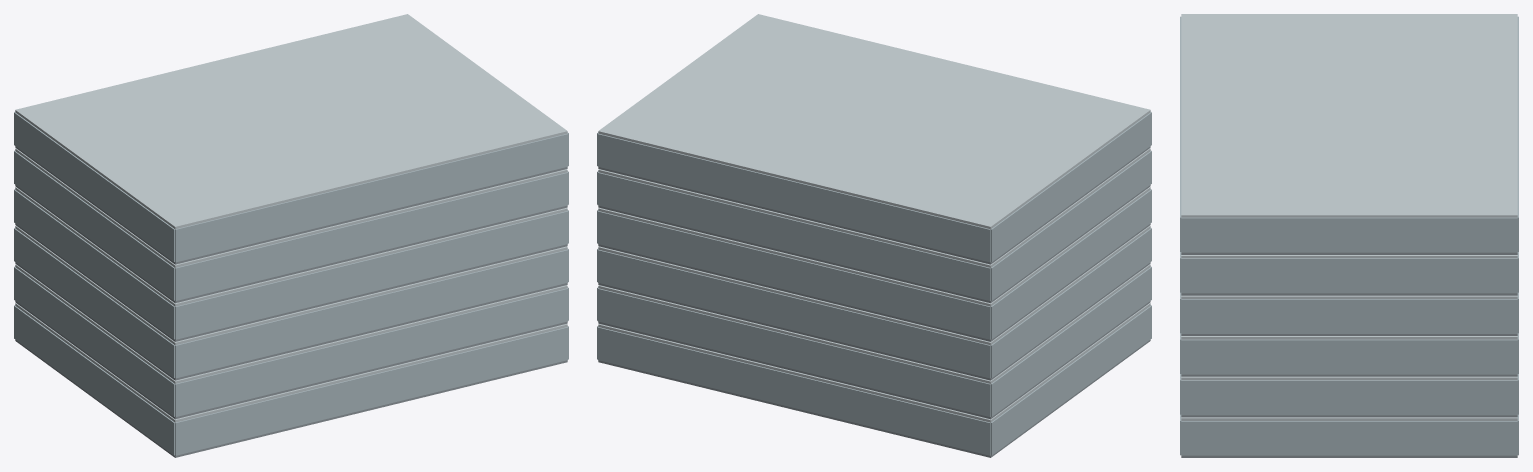
Rendered from hospital_shell.glb.
The picture shows the model from 3 angles, left to right: view 1: azimuth 30°, elevation 25°; view 2: azimuth 150°, elevation 25°; view 3: azimuth 270°, elevation 25°; orthographic projection. The views are drawn at different scales.
Parts seen in each view (by area): view 1: F06 | Entire floor | removable roof, Entire floor | single wall unit, F04 | Entire floor | single wall unit, F02 | Entire floor | single wall unit, F05 | Entire floor | single wall unit, F03 | Entire floor | single wall unit, F06 | Entire floor | single wall unit, Entire floor | removable roof, F03 | Entire floor | removable roof, F04 | Entire floor | removable roof, F02 | Entire floor | removable roof, F05 | Entire floor | removable roof (+6 smaller); view 2: F06 | Entire floor | removable roof, Entire floor | single wall unit, F04 | Entire floor | single wall unit, F02 | Entire floor | single wall unit, F05 | Entire floor | single wall unit, F03 | Entire floor | single wall unit, F06 | Entire floor | single wall unit, Entire floor | removable roof, F03 | Entire floor | removable roof, F04 | Entire floor | removable roof, F02 | Entire floor | removable roof, F05 | Entire floor | removable roof (+6 smaller); view 3: F06 | Entire floor | removable roof, F06 | Entire floor | single wall unit, F02 | Entire floor | single wall unit, F03 | Entire floor | single wall unit, F05 | Entire floor | single wall unit, F04 | Entire floor | single wall unit, Entire floor | single wall unit, F02 | Entire floor | removable roof, F03 | Entire floor | removable roof, F04 | Entire floor | removable roof, Entire floor | removable roof, F05 | Entire floor | removable roof (+6 smaller).
Part boxes in pixels (x1,y1,x2,y2): F06 | Entire floor | removable roof: (15,14,567,229); Entire floor | single wall unit: (14,305,568,455); F04 | Entire floor | single wall unit: (14,189,568,339); F02 | Entire floor | single wall unit: (14,266,568,416); F05 | Entire floor | single wall unit: (14,150,568,300); F03 | Entire floor | single wall unit: (14,228,568,378); F06 | Entire floor | single wall unit: (14,112,568,262); Entire floor | removable roof: (15,303,567,422); F03 | Entire floor | removable roof: (15,225,567,345); F04 | Entire floor | removable roof: (15,187,567,306); F02 | Entire floor | removable roof: (15,264,567,383); F05 | Entire floor | removable roof: (15,148,567,267); F06 | Entire floor | removable roof: (598,14,1150,229); Entire floor | single wall unit: (597,305,1151,455); F04 | Entire floor | single wall unit: (597,189,1151,339); F02 | Entire floor | single wall unit: (597,266,1151,416); F05 | Entire floor | single wall unit: (597,150,1151,300); F03 | Entire floor | single wall unit: (597,228,1151,378); F06 | Entire floor | single wall unit: (597,112,1151,262); Entire floor | removable roof: (598,303,1150,422); F03 | Entire floor | removable roof: (598,225,1150,345); F04 | Entire floor | removable roof: (598,187,1150,306); F02 | Entire floor | removable roof: (598,264,1150,383); F05 | Entire floor | removable roof: (598,148,1150,267); F06 | Entire floor | removable roof: (1181,14,1517,217); F06 | Entire floor | single wall unit: (1180,16,1518,252); F02 | Entire floor | single wall unit: (1180,374,1518,415); F03 | Entire floor | single wall unit: (1180,333,1518,374); F05 | Entire floor | single wall unit: (1180,252,1518,293); F04 | Entire floor | single wall unit: (1180,292,1518,333); Entire floor | single wall unit: (1180,414,1518,455); F02 | Entire floor | removable roof: (1181,376,1517,380); F03 | Entire floor | removable roof: (1181,336,1517,339); F04 | Entire floor | removable roof: (1181,295,1517,298); Entire floor | removable roof: (1181,417,1517,420); F05 | Entire floor | removable roof: (1181,255,1517,258).
Size of the model in its own units: 34.2 by 19.12 by 24.2.
